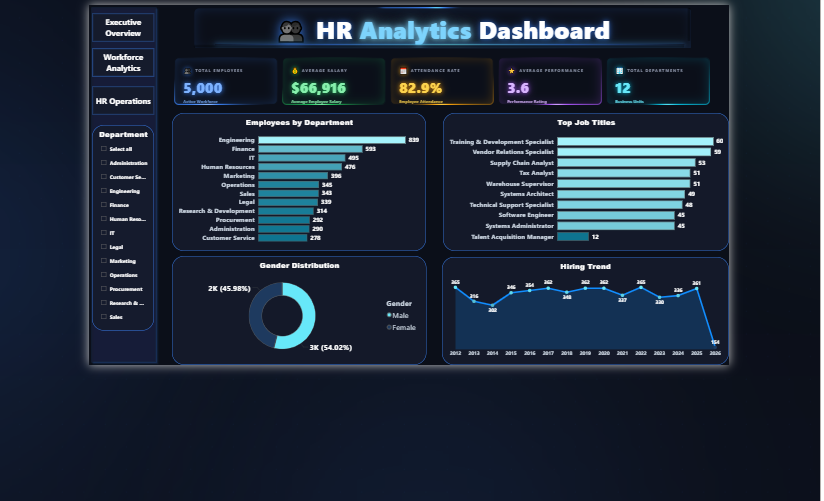

The page's visual inventory and layout, read from the dashboard file:
{"tool":"powerbi","page":{"name":"Executive Overview","canvas":[1600,900],"ordinal":0},"visuals":[{"type":"shape","box":[0,0,175,900],"z":0},{"type":"htmlContent443BE3AD55E043BF878BED274D3A6855","fields":{"content":["attendance.Employee KPI"]},"box":[207.5,125,270,130],"z":1000},{"type":"htmlContent443BE3AD55E043BF878BED274D3A6855","fields":{"content":["attendance.Salary KPI"]},"box":[477.5,125,270,130],"z":2000},{"type":"htmlContent443BE3AD55E043BF878BED274D3A6855","fields":{"content":["attendance.Attendance KPI"]},"box":[747.5,125,270,130],"z":3000},{"type":"htmlContent443BE3AD55E043BF878BED274D3A6855","fields":{"content":["attendance.Performance KPI"]},"box":[1017.5,125,270,130],"z":4000},{"type":"htmlContent443BE3AD55E043BF878BED274D3A6855","fields":{"content":["attendance.Departments KPI"]},"box":[1287.5,125,270,130],"z":5000},{"type":"clusteredBarChart","title":"Employees by Department","fields":{"Category":["departments.DepartmentName"],"Y":["Measures (2).Total Employees"]},"box":[208.3,270,635,345],"z":6000},{"type":"donutChart","title":"Gender Distribution","fields":{"Category":["employees.Gender"],"Y":["Measures (2).Total Employees"]},"box":[208,628,636,272],"z":7000},{"type":"lineChart","title":"Hiring Trend","fields":{"Category":["employees.HireDate.Variation.Date Hierarchy.Year","employees.HireDate.Variation.Date Hierarchy.Quarter","employees.HireDate.Variation.Date Hierarchy.Month","employees.HireDate.Variation.Date Hierarchy.Day"],"Y":["Measures (2).Total Employees"]},"box":[883.3,630,716.7,270],"z":8000},{"type":"clusteredBarChart","title":"Top Job Titles","fields":{"Category":["jobs.JobTitle"],"Y":["Measures (2).Total Employees"]},"box":[885,270,715,345],"z":9000},{"type":"htmlContent443BE3AD55E043BF878BED274D3A6855","fields":{"content":["Measures (2).Dashboard Title"]},"box":[255,0,1255,112.5],"z":10000},{"type":"actionButton","title":"Executive Overview","box":[7.5,20,156.2,72.5],"z":11000},{"type":"actionButton","title":"Executive Overview","box":[7.5,107.5,156.2,72.5],"z":12000},{"type":"actionButton","title":"Executive Overview","box":[7.5,202.5,156.2,72.5],"z":13000},{"type":"slicer","title":"Department","fields":{"Values":["departments.DepartmentName"]},"box":[7.5,300,155,600],"z":14000}]}

Visuals, with their boxes on the page's 1600x900 design canvas (x1, y1, x2, y2). These are canvas units, not pixel positions in the 824x501 screenshot, which may show the page scaled, cropped or inside an application window:
shape: rect(0, 0, 175, 900)
htmlContent443BE3AD55E043BF878BED274D3A6855 - attendance.Employee KPI: rect(208, 125, 478, 255)
htmlContent443BE3AD55E043BF878BED274D3A6855 - attendance.Salary KPI: rect(478, 125, 748, 255)
htmlContent443BE3AD55E043BF878BED274D3A6855 - attendance.Attendance KPI: rect(748, 125, 1018, 255)
htmlContent443BE3AD55E043BF878BED274D3A6855 - attendance.Performance KPI: rect(1018, 125, 1288, 255)
htmlContent443BE3AD55E043BF878BED274D3A6855 - attendance.Departments KPI: rect(1288, 125, 1558, 255)
"Employees by Department" clusteredBarChart: rect(208, 270, 843, 615)
"Gender Distribution" donutChart: rect(208, 628, 844, 900)
"Hiring Trend" lineChart: rect(883, 630, 1600, 900)
"Top Job Titles" clusteredBarChart: rect(885, 270, 1600, 615)
htmlContent443BE3AD55E043BF878BED274D3A6855 - Measures (2).Dashboard Title: rect(255, 0, 1510, 112)
"Executive Overview" actionButton: rect(8, 20, 164, 92)
"Executive Overview" actionButton: rect(8, 108, 164, 180)
"Executive Overview" actionButton: rect(8, 202, 164, 275)
"Department" slicer: rect(8, 300, 162, 900)
